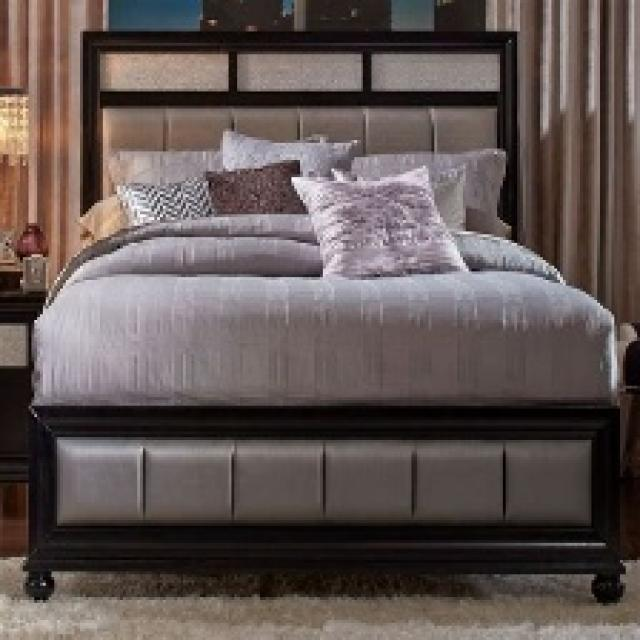Bed: (20, 28, 637, 603)
